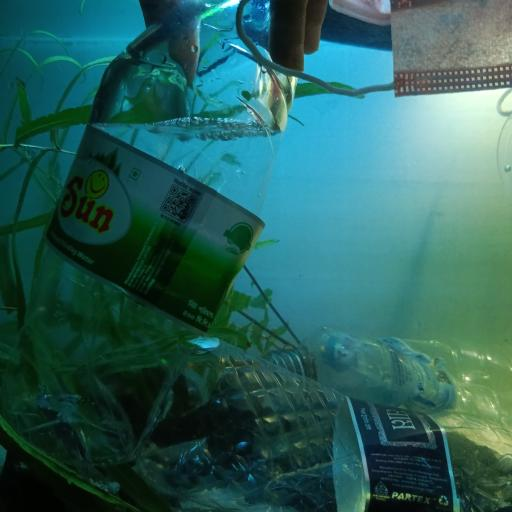mask: (235, 0, 512, 98)
plastic_bottle: (0, 0, 289, 469), (134, 336, 512, 512), (266, 326, 512, 420)
